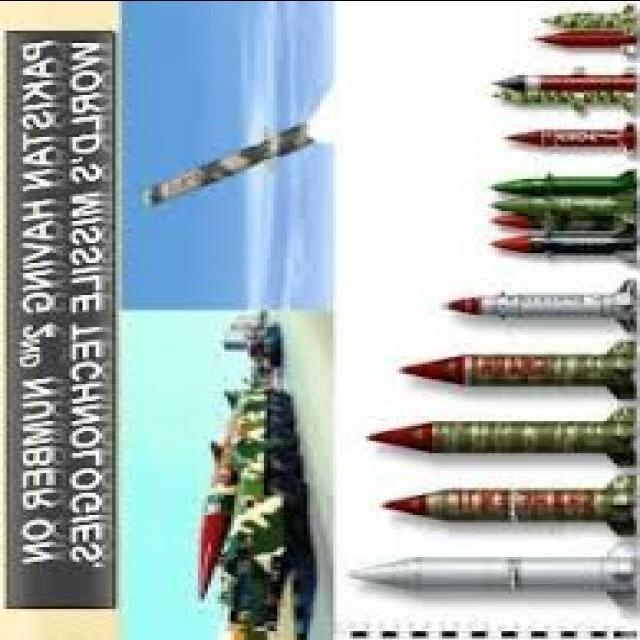Missile: (366, 470, 640, 536), (135, 125, 325, 216), (391, 339, 639, 401), (344, 554, 632, 592)
